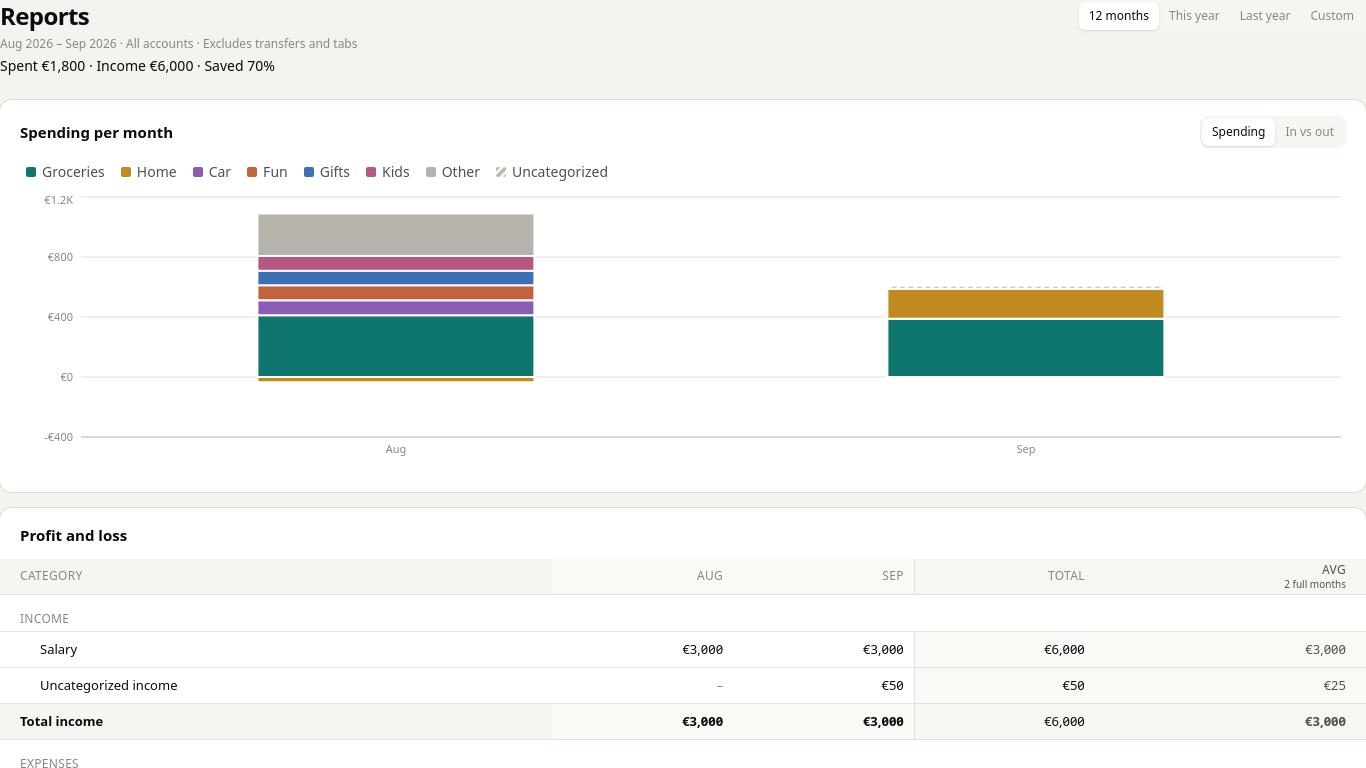
Test: ReportsPage › keeps the picked period in the address
Expected: the text "All accounts" is shown, top-left (117, 35), bottom-right (358, 52)
Click the button "Last year": (1265, 16) top-left (1230, 2), bottom-right (1300, 30)
(page scrolled)
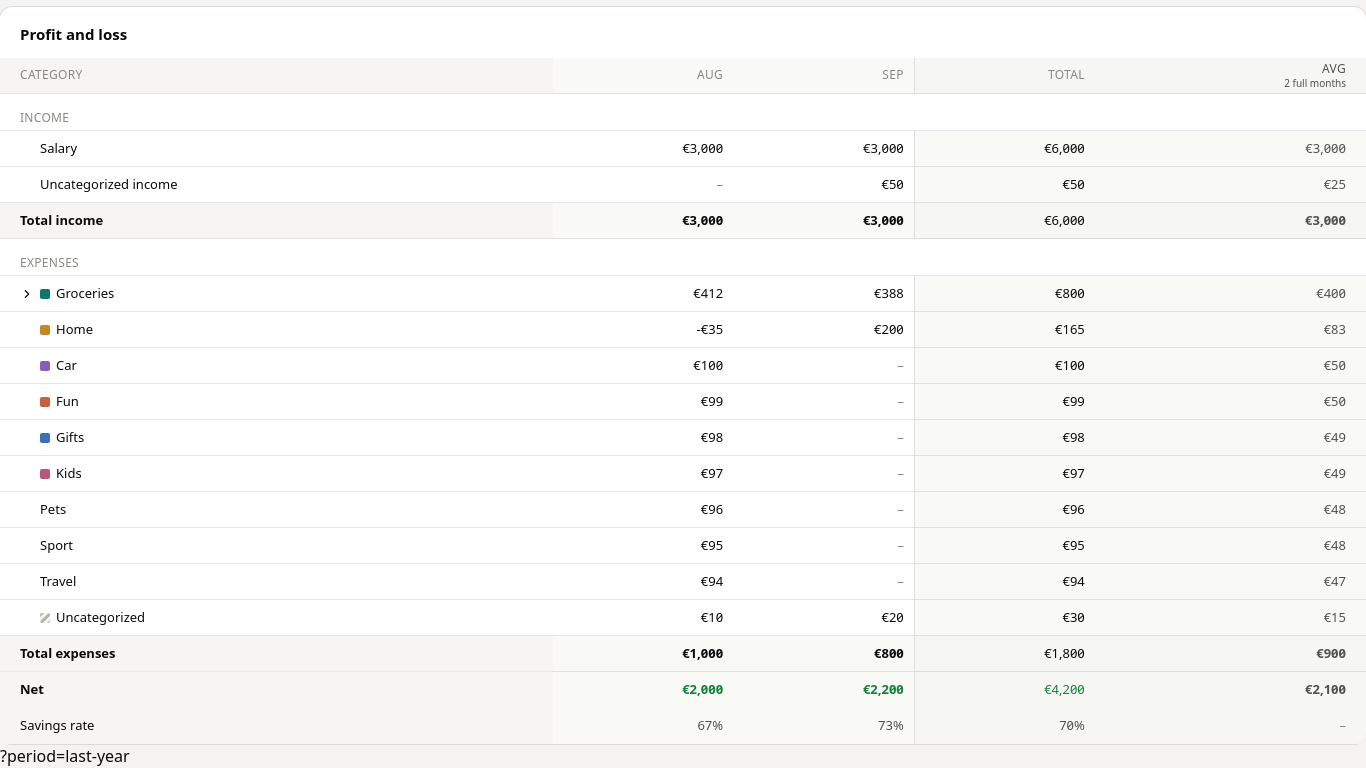
Expected: the text with test id "where" reads "?period=last-year", top-left (0, 744), bottom-right (130, 766)
